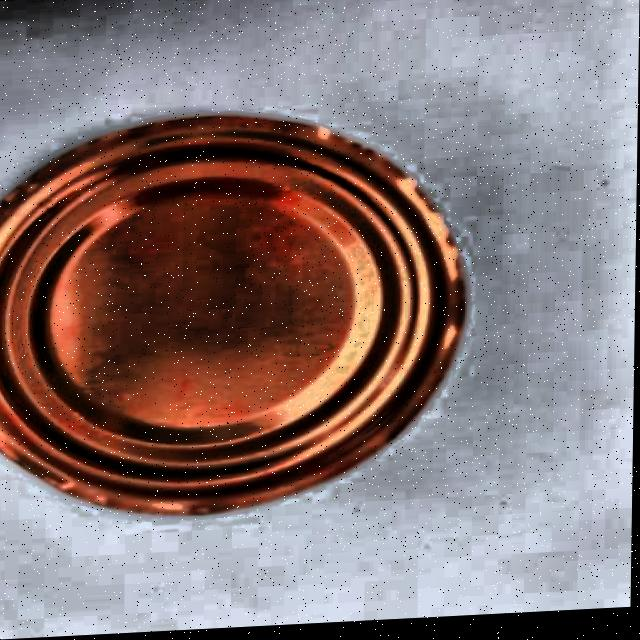metal: (0, 95, 472, 529)
